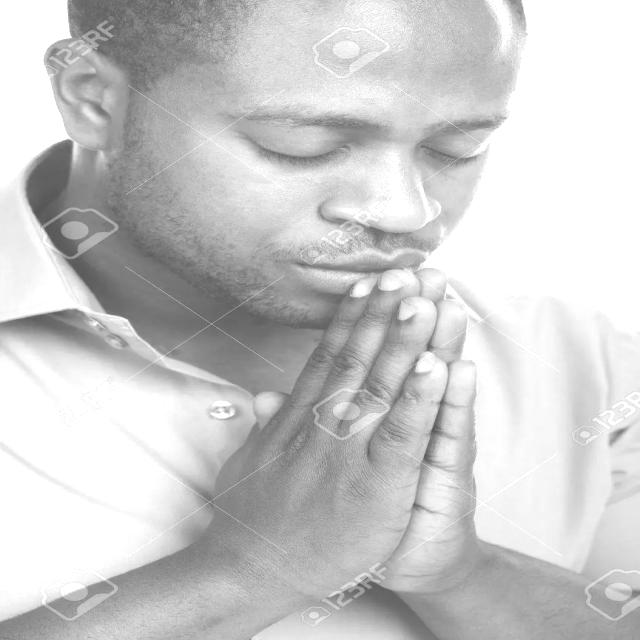real: (41, 0, 530, 330), (202, 88, 538, 180)
